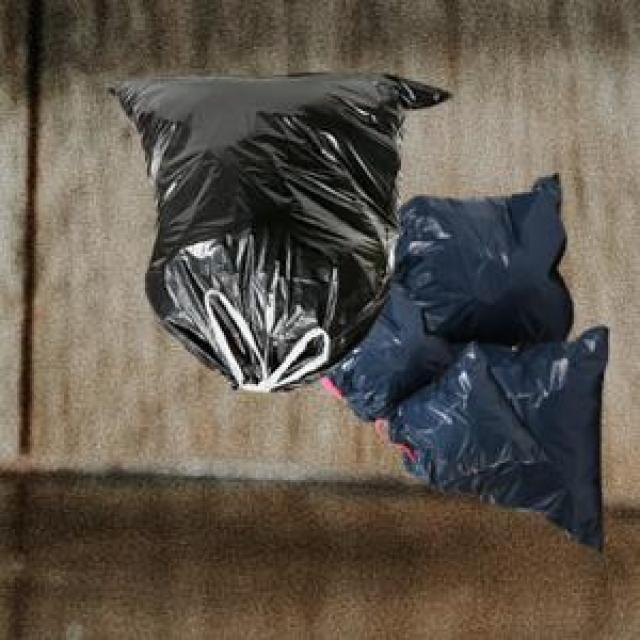Vinyl: (114, 74, 608, 546)
